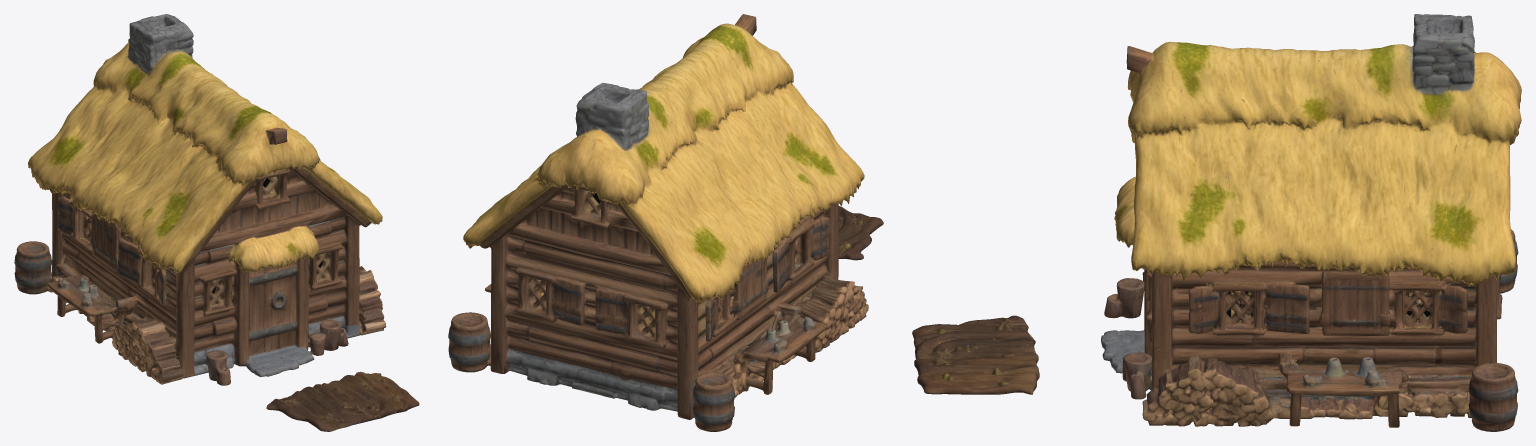
Rendered from supply.glb.
The picture shows the model from 3 angles, left to right: view 1: azimuth 30°, elevation 25°; view 2: azimuth 150°, elevation 25°; view 3: azimuth 270°, elevation 25°; orthographic projection. The views are drawn at different scales.
Visible parts, largest first — view 1: Mesh1.0; view 2: Mesh1.0; view 3: Mesh1.0.
Boxes of the visible parts, bbox=[...] form: Mesh1.0: bbox=[14, 14, 419, 431]; Mesh1.0: bbox=[448, 14, 883, 431]; Mesh1.0: bbox=[912, 14, 1521, 431].
Size of the model in its own units: 1.3 by 1.2 by 2.01.
1 material, 1 textured.
